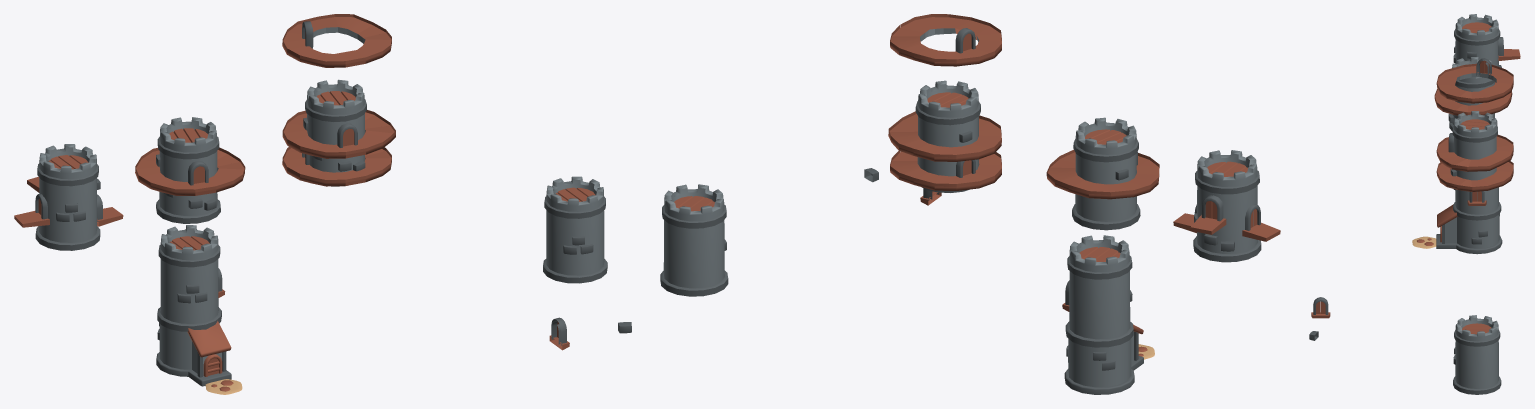
File: New_Towers.fbx
3 views of the same model, side by side, from view 1: azimuth 30°, elevation 25°; view 2: azimuth 150°, elevation 25°; view 3: azimuth 270°, elevation 25° (orthographic). The views are drawn at different scales.
Parts seen in each view (by area): view 1: Tower_Foundation, Archer_Tower_Lvl2, Archer_Tower_Lvl1, Archer_Tower_OG, Template, Archer_Walkway; view 2: Tower_Foundation, Archer_Tower_Lvl2, Archer_Tower_Lvl1, Archer_Tower_OG, Template, Archer_Walkway; view 3: Archer_Tower_Lvl2, Tower_Foundation, Template, Archer_Tower_OG, Archer_Walkway, Archer_Tower_Lvl1, Door.
Part boxes in pixels (box(x1,y1,x2,y2)): Tower_Foundation: box(156, 225, 242, 394); Archer_Tower_Lvl2: box(282, 79, 395, 186); Archer_Tower_Lvl1: box(135, 117, 245, 223); Archer_Tower_OG: box(14, 144, 123, 250); Template: box(543, 176, 607, 283); Archer_Walkway: box(282, 14, 391, 67); Tower_Foundation: box(1062, 235, 1154, 394); Archer_Tower_Lvl2: box(888, 80, 1001, 192); Archer_Tower_Lvl1: box(1046, 117, 1159, 230); Archer_Tower_OG: box(1173, 150, 1280, 262); Template: box(660, 184, 728, 296); Archer_Walkway: box(890, 14, 1001, 66); Archer_Tower_Lvl2: box(1436, 111, 1513, 191); Tower_Foundation: box(1412, 187, 1502, 254); Template: box(1453, 315, 1501, 394); Archer_Tower_OG: box(1453, 14, 1520, 67); Archer_Walkway: box(1436, 58, 1513, 103); Archer_Tower_Lvl1: box(1434, 57, 1512, 131); Door: box(1311, 297, 1330, 318).
Size of the model in its own units: 956 by 484 by 402.
